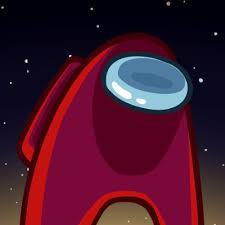amongus: (20, 33, 206, 223)
